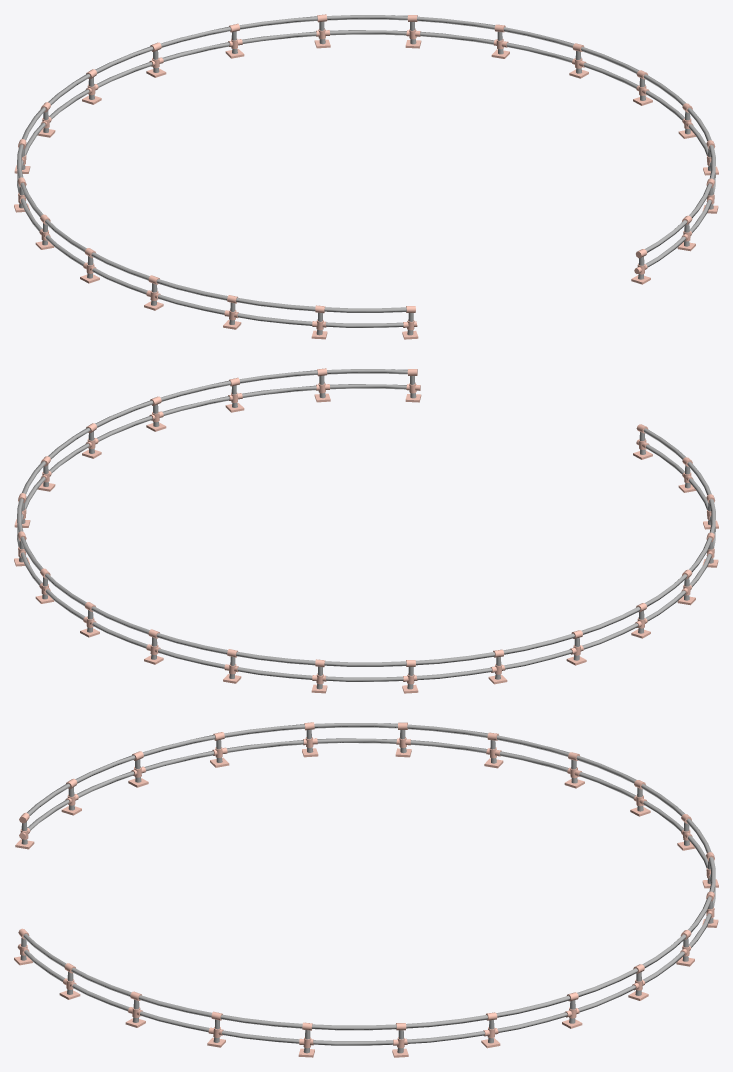
Rendered from railingcircular_001.fbx.
3 views of the same model, one above another, from view 1: azimuth 30°, elevation 25°; view 2: azimuth 150°, elevation 25°; view 3: azimuth 270°, elevation 25° (orthographic). The views are drawn at different scales.
Visible parts, largest first — view 1: railingcircular_001; view 2: railingcircular_001; view 3: railingcircular_001.
Part boxes in pixels (bbox=[...]): railingcircular_001: bbox=[14, 14, 718, 339]; railingcircular_001: bbox=[14, 368, 718, 693]; railingcircular_001: bbox=[14, 722, 718, 1057].
Size of the model in its own units: 2230 by 2161 by 106.
